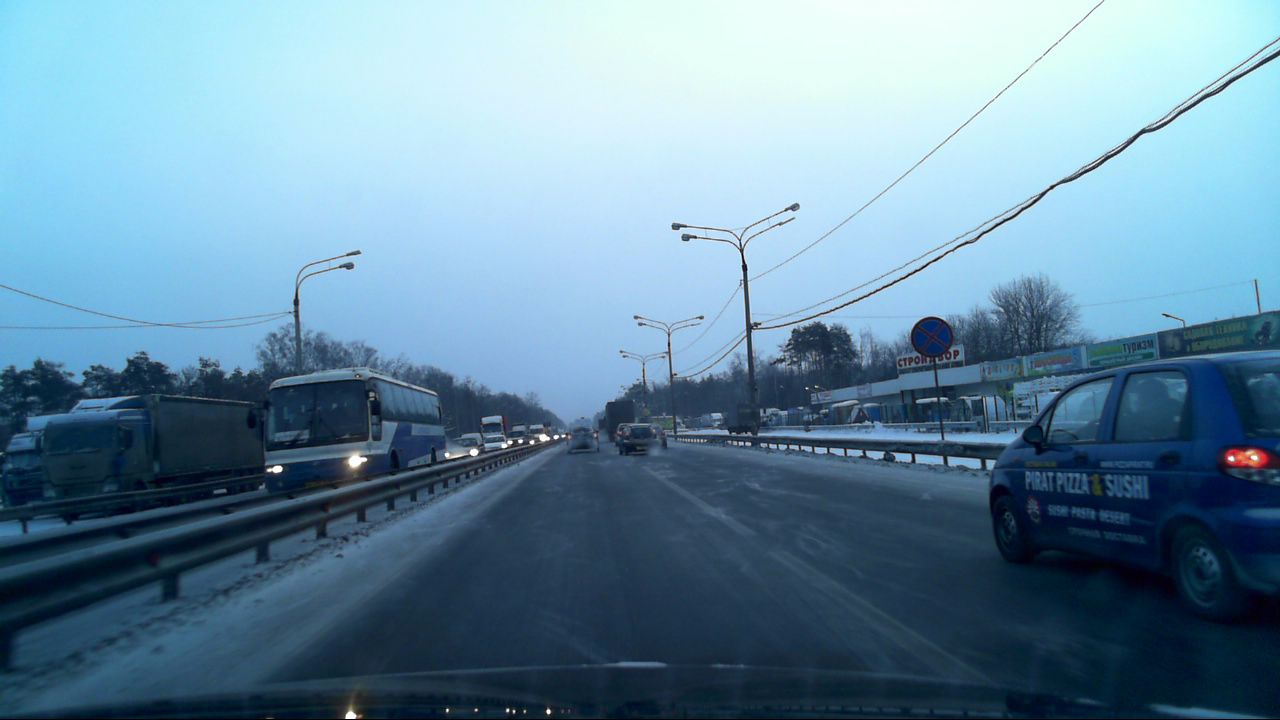No Parking: (910, 315, 953, 359)
